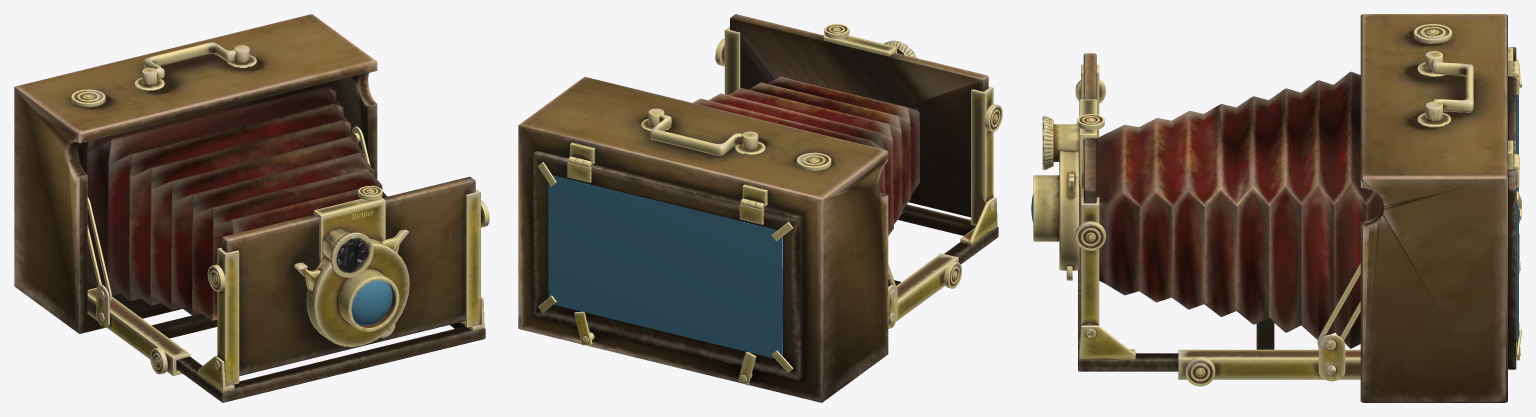
The model's file is bellowsCam.glb.
The picture shows the model from 3 angles, left to right: view 1: azimuth 30°, elevation 25°; view 2: azimuth 150°, elevation 25°; view 3: azimuth 270°, elevation 25°; orthographic projection. The views are drawn at different scales.
Parts seen in each view (by area): view 1: camera, Bellows, Brass, Lens, lens; view 2: camera, Glass, Brass, Bellows, Lens; view 3: camera, Bellows, Brass, Lens, Glass.
Boxes of the visible parts, bbox=[...] form: camera: bbox=[14, 14, 485, 402]; Bellows: bbox=[78, 82, 386, 320]; Brass: bbox=[71, 42, 489, 391]; Lens: bbox=[294, 197, 409, 346]; lens: bbox=[351, 280, 392, 325]; camera: bbox=[518, 14, 998, 402]; Glass: bbox=[548, 175, 782, 358]; Brass: bbox=[538, 24, 1002, 385]; Bellows: bbox=[693, 76, 919, 235]; Lens: bbox=[823, 35, 916, 57]; camera: bbox=[1078, 14, 1516, 402]; Bellows: bbox=[1096, 71, 1383, 348]; Brass: bbox=[1075, 24, 1521, 386]; Lens: bbox=[1033, 99, 1096, 280]; Glass: bbox=[1516, 94, 1518, 341].
Bounding box in the file's own units: 0.3959 × 0.2716 × 0.4991.
5 materials, 4 textured.
